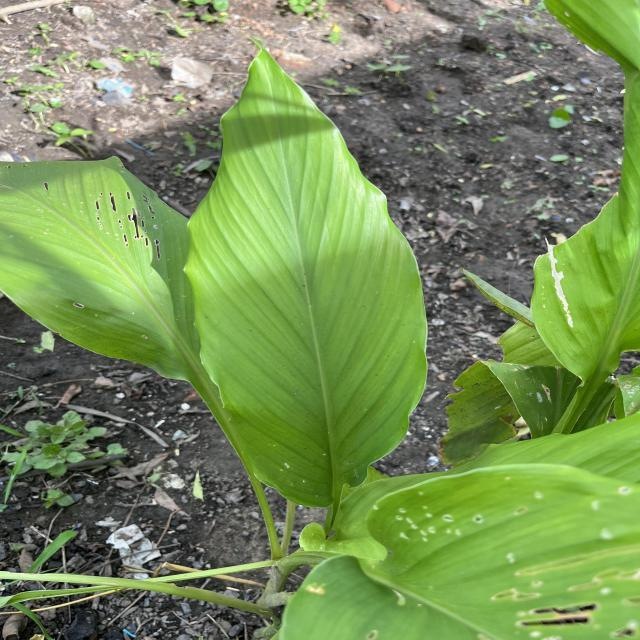Curcuma longa: (174, 25, 436, 518)
